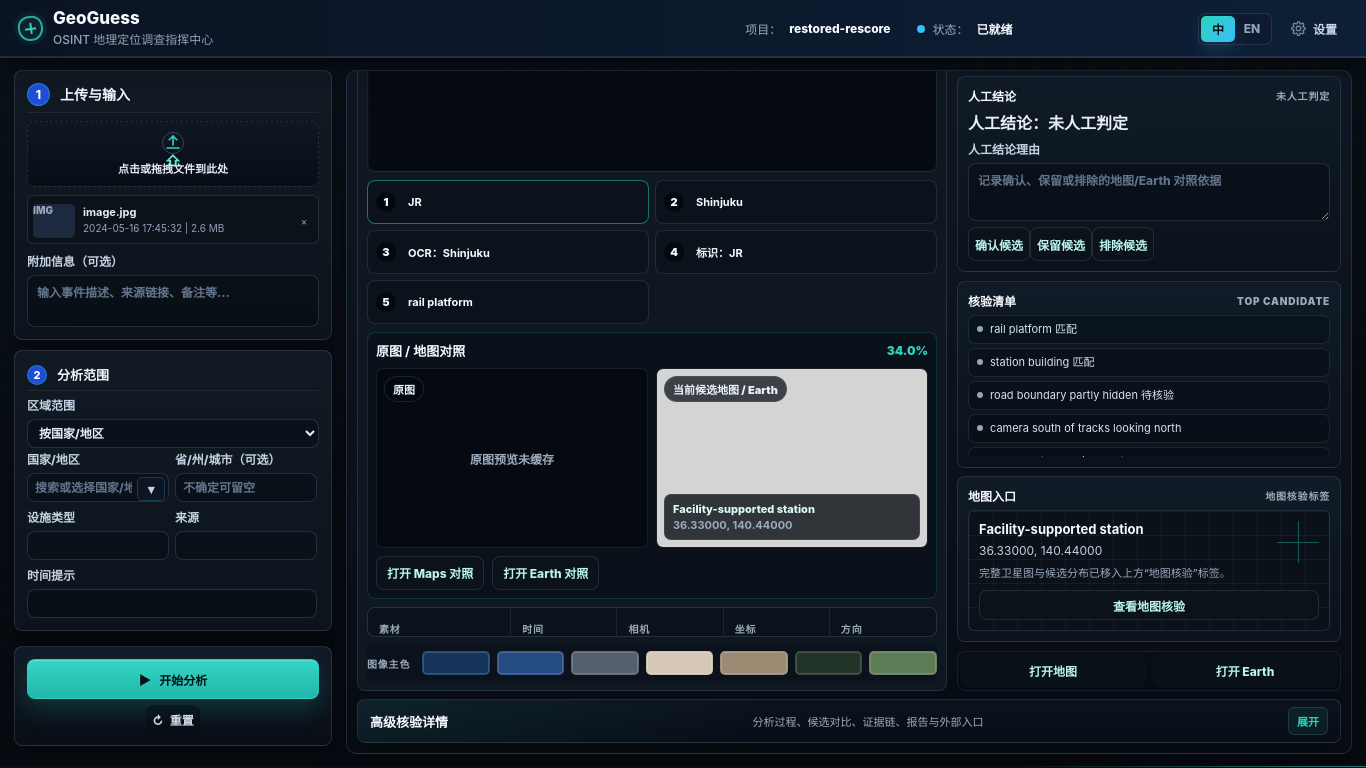
Test: App › rescoring restored candidates demotes terrain-only facility mismatches
This screenshot has width=1366, height=768.
(page scrolled)
Step 1. Click the text "高级核验详情" → [409, 721], box [370,712,448,731]
(page scrolled)
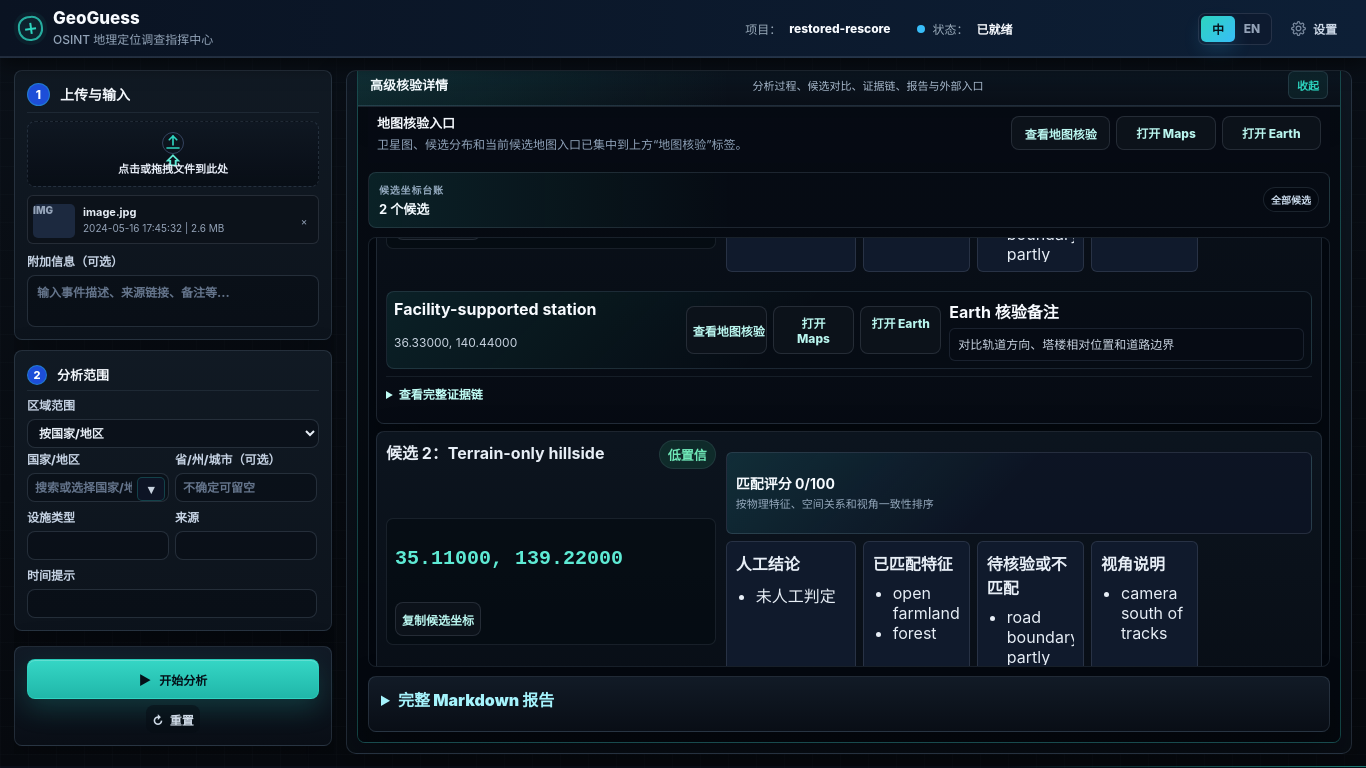
expect the text "候选 2：Terrain-only hillside" is shown: met, box [386,440,604,464]
